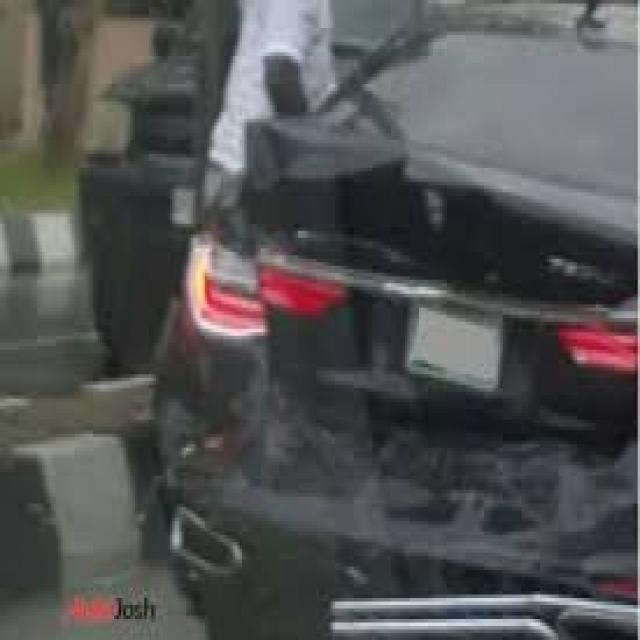moderate: (226, 140, 640, 636)
